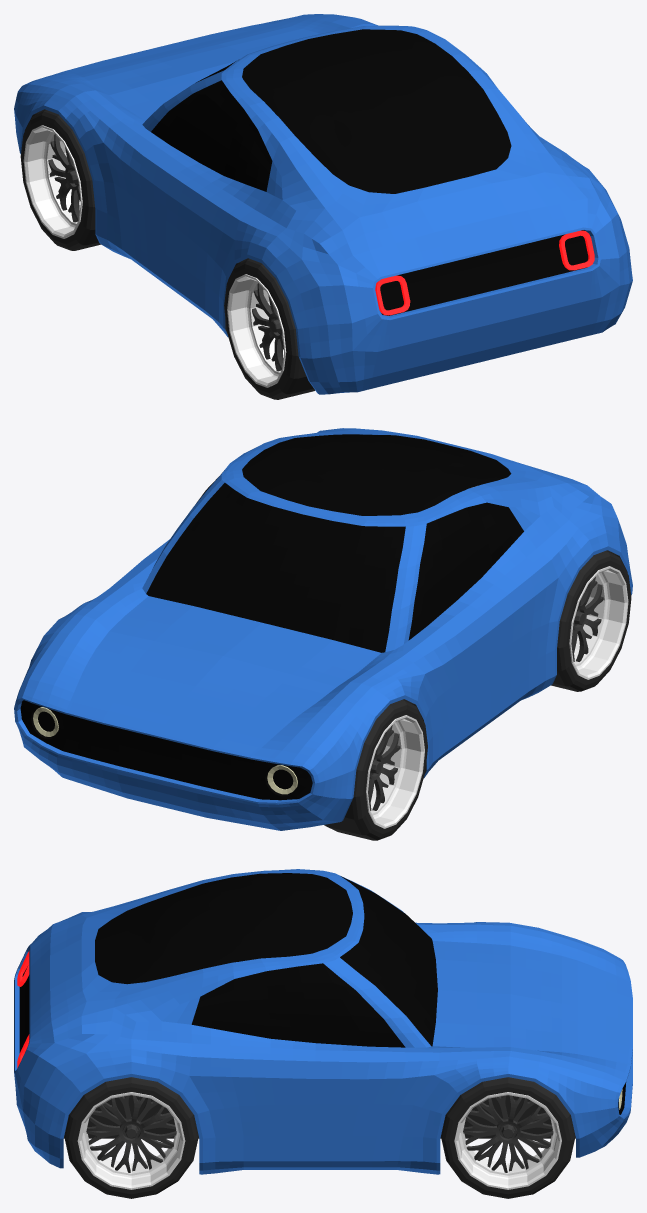
Rendered from car3.fbx.
3 views of the same model, one above another, from view 1: azimuth 30°, elevation 25°; view 2: azimuth 150°, elevation 25°; view 3: azimuth 270°, elevation 25° (orthographic). The views are drawn at different scales.
Visible parts, largest first — view 1: body, back_glass, back_wheels, front_wheels, mid_glass; view 2: body, front_glass, back_glass, front_wheels, mid_glass, back_wheels; view 3: body, back_glass, mid_glass, front_wheels, back_wheels, front_glass.
Part boxes in pixels (x1,y1,x2,y2): body: (14, 14, 632, 394); back_glass: (242, 29, 511, 193); back_wheels: (224, 259, 314, 399); front_wheels: (20, 110, 100, 250); mid_glass: (151, 37, 435, 191); body: (14, 428, 632, 830); front_glass: (146, 483, 405, 652); back_glass: (242, 434, 511, 515); front_wheels: (324, 699, 427, 840); mid_glass: (197, 462, 523, 640); back_wheels: (551, 551, 631, 691); body: (14, 869, 632, 1174); back_glass: (95, 873, 352, 984); mid_glass: (191, 873, 405, 1047); front_wheels: (441, 1077, 575, 1198); back_wheels: (64, 1077, 198, 1198); front_glass: (340, 876, 437, 1046).
Size of the model in its own units: 614 by 401 by 1035.
